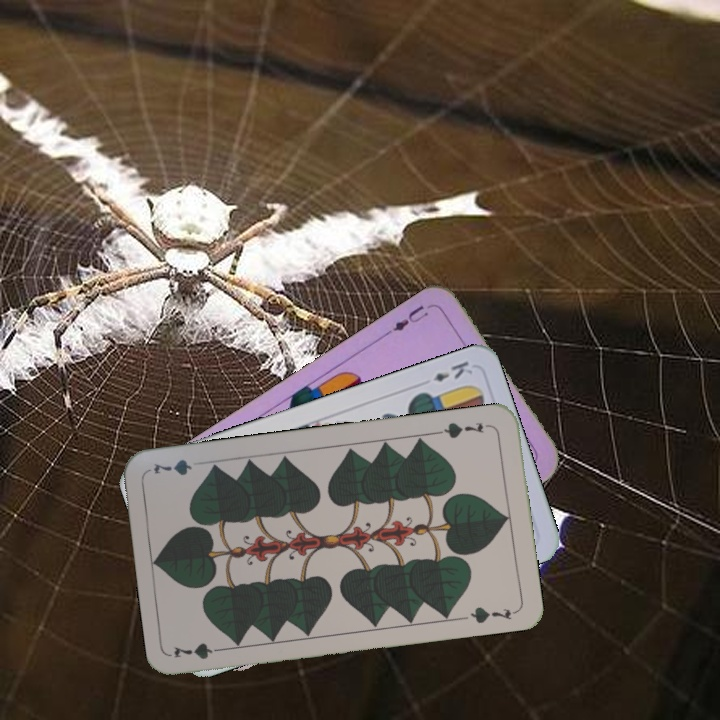EK: (429, 357, 476, 385)
EU: (382, 301, 431, 337)
G7: (170, 639, 230, 662), (434, 418, 493, 441)
